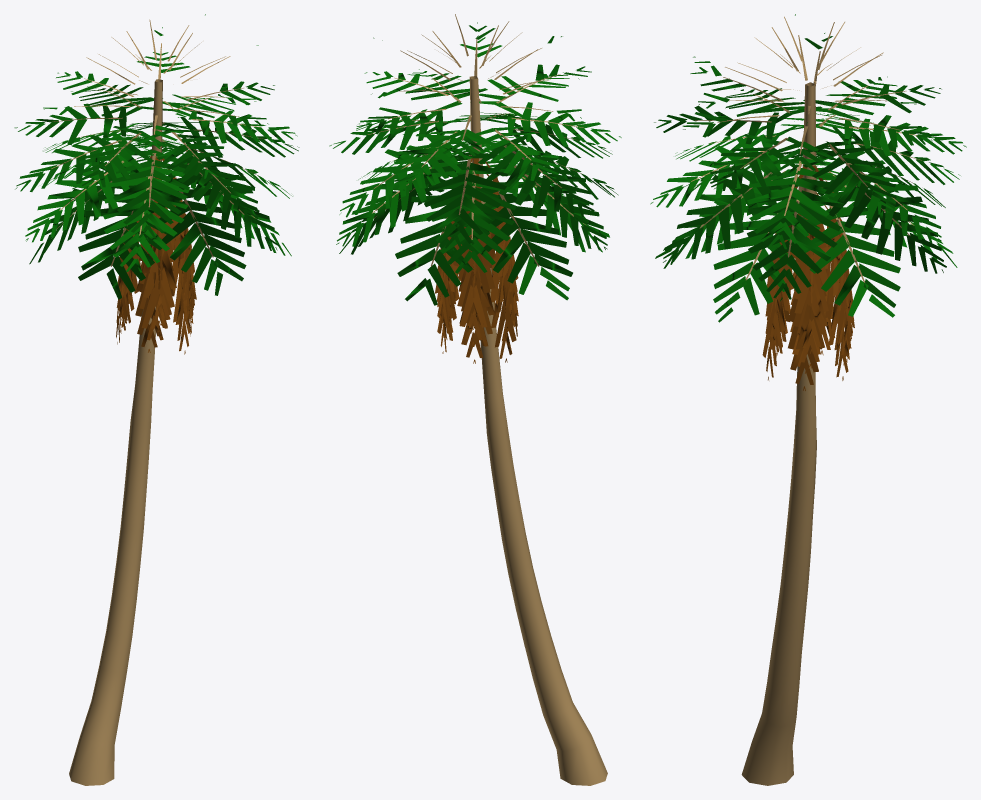
Rendered from Tree_04.fbx.
3 views of the same model, side by side, from view 1: azimuth 30°, elevation 25°; view 2: azimuth 150°, elevation 25°; view 3: azimuth 270°, elevation 25° (orthographic). The views are drawn at different scales.
Parts seen in each view (by area): view 1: Foliage002; view 2: Foliage002; view 3: Foliage002.
Boxes of the visible parts, <box> form: Foliage002: <box>14,14,299,785</box>; Foliage002: <box>329,14,621,785</box>; Foliage002: <box>650,14,966,785</box>.
Size of the model in its own units: 159 by 153 by 418.
